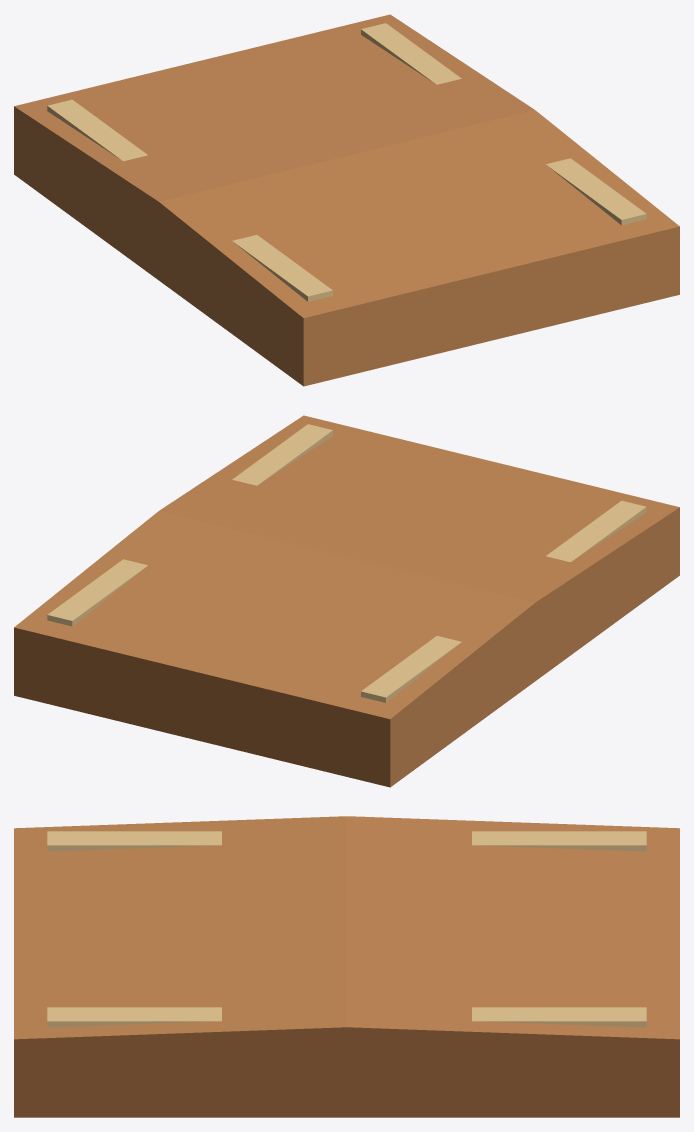
File: plank_1_8.glb
The picture shows the model from 3 angles, top to bottom: view 1: azimuth 30°, elevation 25°; view 2: azimuth 150°, elevation 25°; view 3: azimuth 270°, elevation 25°; orthographic projection. The views are drawn at different scales.
Parts seen in each view (by area): view 1: plank; view 2: plank; view 3: plank.
Boxes of the visible parts, x1=… form: plank: x1=14, y1=14, x2=679, y2=386; plank: x1=14, y1=415, x2=679, y2=787; plank: x1=14, y1=816, x2=679, y2=1117.
Bounding box in the file's own units: 0.03 × 0.006 × 0.04.
